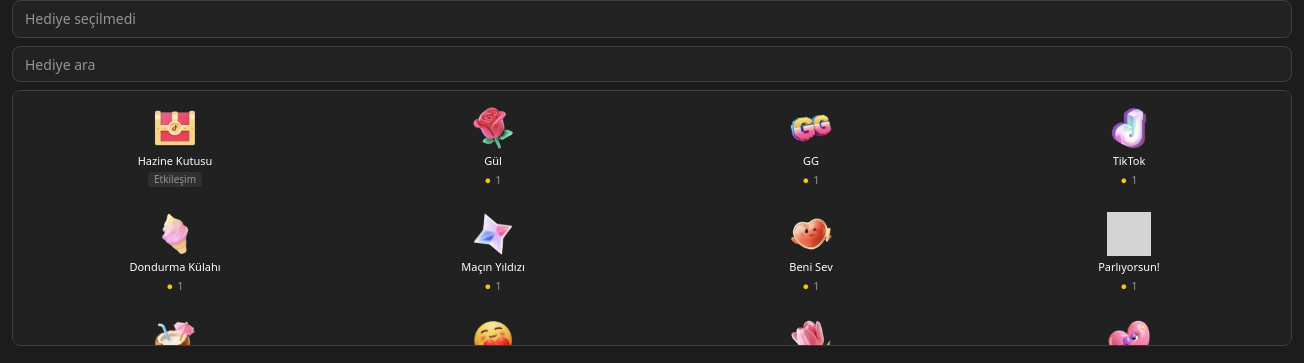
GiftPicker › eşleşme yoksa boş durum metni gösterilir
This screenshot has width=1304, height=363.
Step 1. Type "zzzz" into the search field → point(652, 64), box [12, 46, 1292, 82]
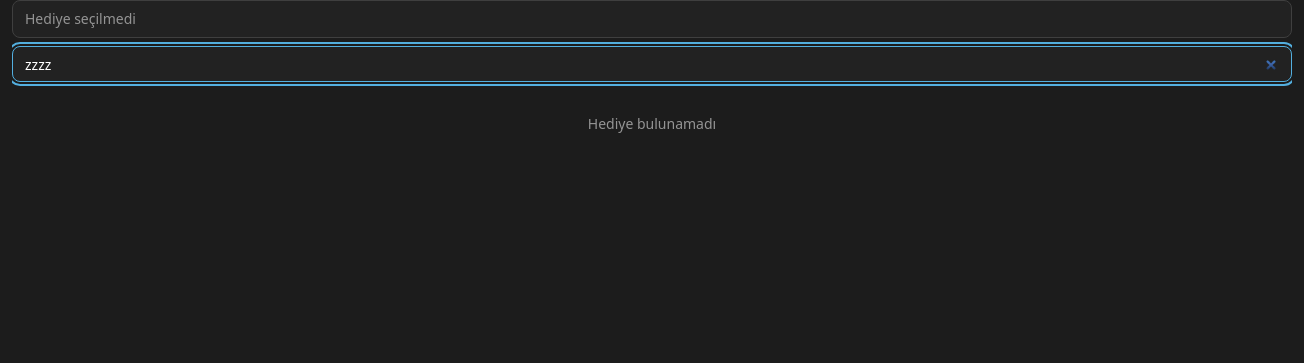
Now the text "Hediye bulunamadı" is shown, box [588, 114, 716, 133]
